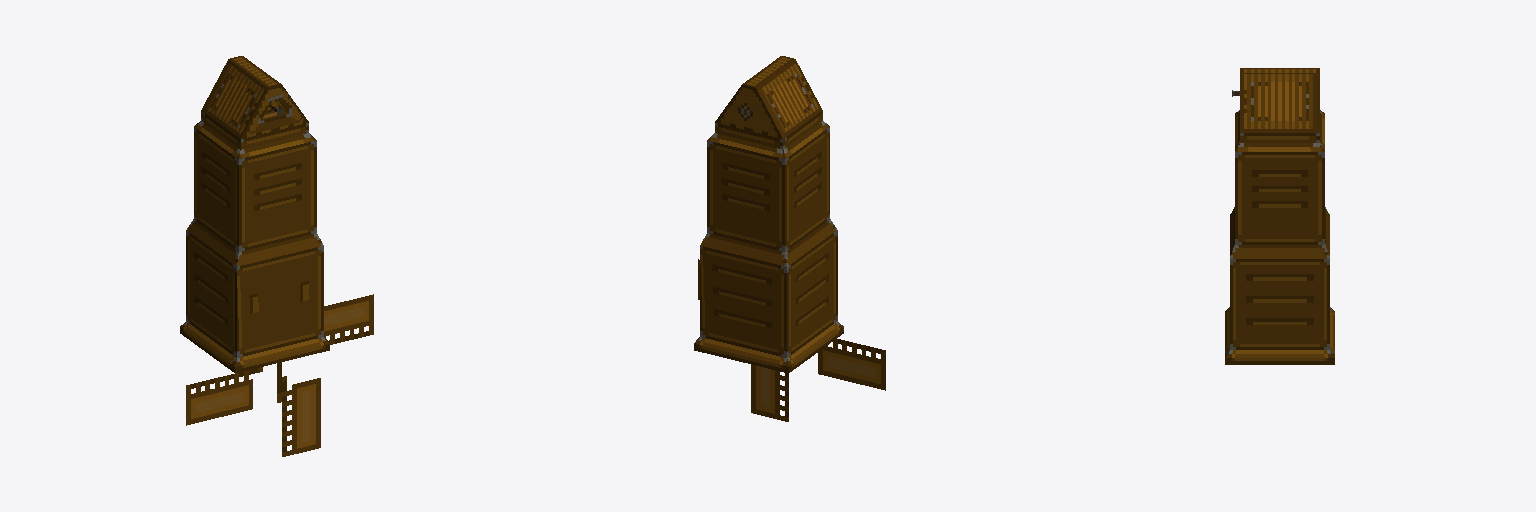
3 renders of one model, left to right at view 1: azimuth 30°, elevation 25°; view 2: azimuth 150°, elevation 25°; view 3: azimuth 270°, elevation 25°, orthographic.
Parts seen in each view (by area): view 1: mill_Cube, prop_Plane; view 2: mill_Cube, prop_Plane; view 3: mill_Cube.
Part boxes in pixels (bbox=[...]): mill_Cube: bbox=[180, 56, 329, 372]; prop_Plane: bbox=[186, 294, 373, 456]; mill_Cube: bbox=[694, 56, 843, 372]; prop_Plane: bbox=[698, 259, 885, 421]; mill_Cube: bbox=[1225, 68, 1334, 364].
Size of the model in its own units: 5.65 by 10.63 by 2.87.
2 materials, 1 textured.